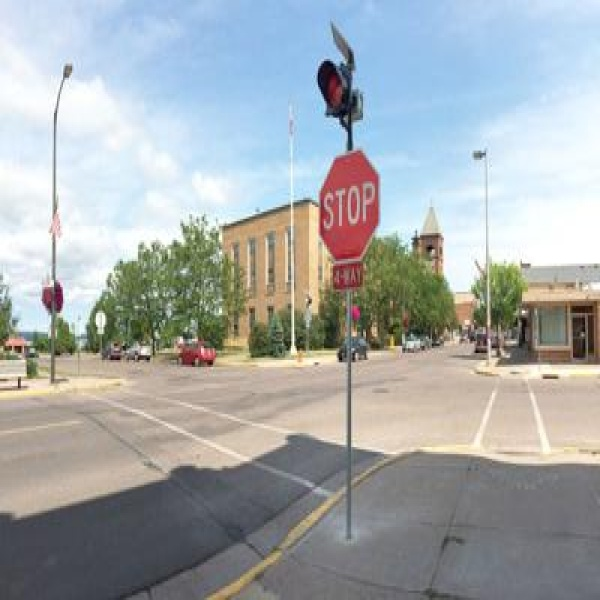stop: (316, 152, 378, 264)
